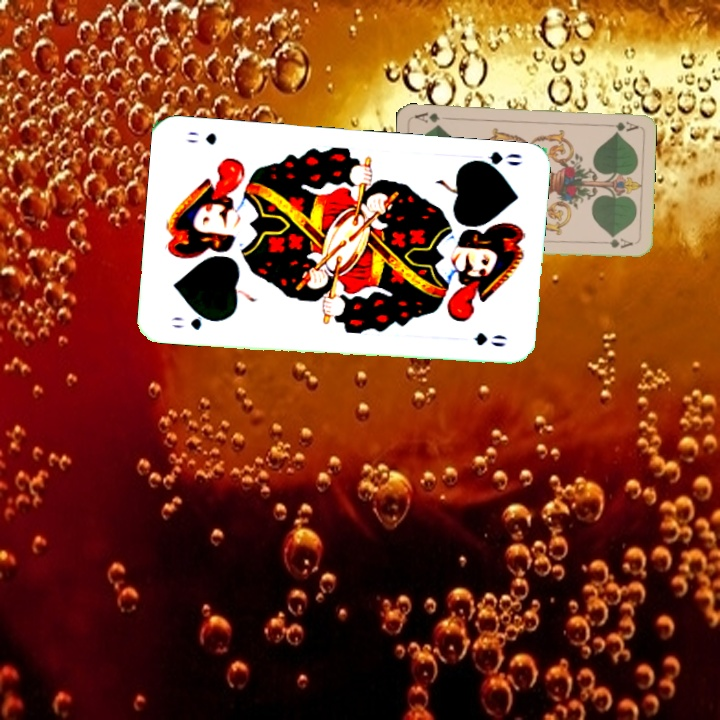GA: (600, 117, 640, 132)
GO: (465, 147, 525, 174), (167, 310, 221, 333)
